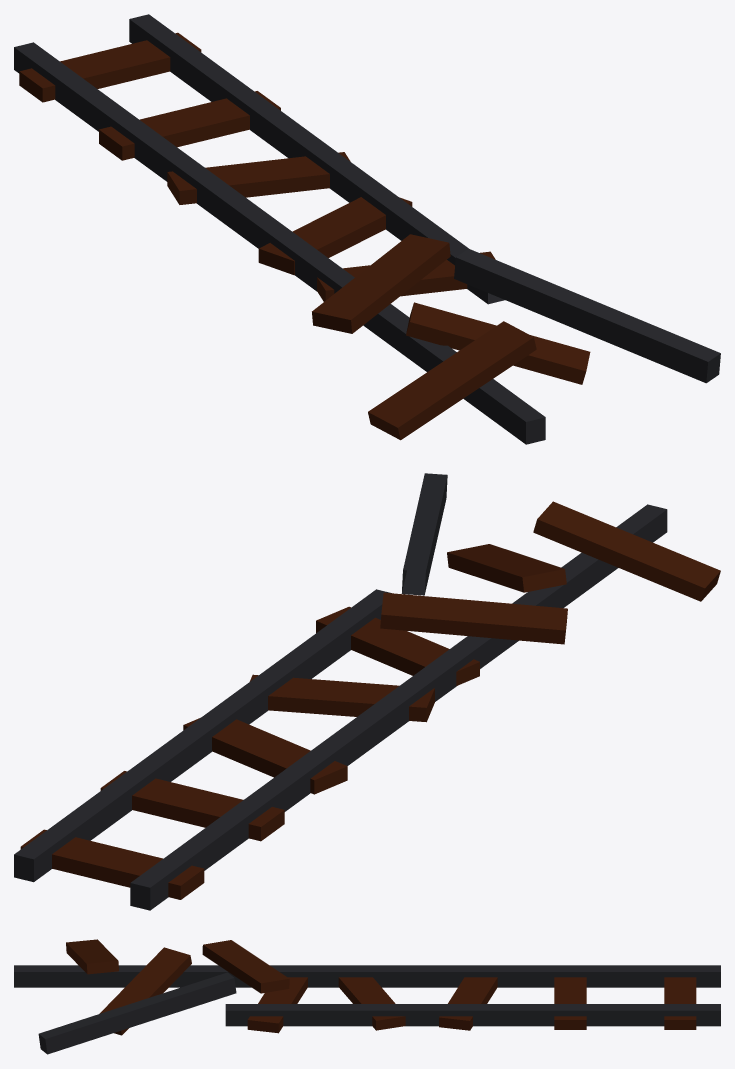
The model's file is Train_tracks_broken.FBX.
The picture shows the model from 3 angles, top to bottom: view 1: azimuth 30°, elevation 25°; view 2: azimuth 150°, elevation 25°; view 3: azimuth 270°, elevation 25°; orthographic projection. The views are drawn at different scales.
Visible parts, largest first — view 1: train_tracks_broken, Box003, Box004, Box005, Box007, Box006, Box010, Box012, Box011, Box009, Box008; view 2: Box003, Box004, train_tracks_broken, Box005, Box007, Box009, Box012, Box011, Box010, Box008, Box006; view 3: Box003, train_tracks_broken, Box004, Box007, Box006, Box009, Box010, Box008, Box011, Box012, Box005.
Part boxes in pixels (x1,y1,x2,y2): train_tracks_broken: [311, 248, 720, 444]; Box003: [129, 14, 504, 304]; Box004: [14, 42, 330, 286]; Box005: [368, 321, 536, 440]; Box007: [312, 234, 450, 333]; Box006: [406, 302, 590, 384]; Box010: [167, 152, 350, 204]; Box012: [19, 32, 201, 102]; Box011: [99, 91, 280, 160]; Box009: [258, 197, 412, 275]; Box008: [317, 251, 495, 301]; Box003: [14, 589, 391, 882]; Box004: [130, 663, 450, 910]; train_tracks_broken: [401, 473, 667, 690]; Box005: [533, 501, 720, 601]; Box007: [380, 592, 567, 644]; Box009: [249, 674, 434, 722]; Box012: [20, 829, 204, 899]; Box011: [100, 771, 284, 841]; Box010: [183, 718, 347, 794]; Box008: [316, 606, 479, 685]; Box006: [447, 544, 566, 592]; Box003: [225, 1004, 720, 1026]; train_tracks_broken: [14, 965, 310, 1054]; Box004: [311, 965, 720, 987]; Box007: [202, 940, 289, 993]; Box006: [99, 947, 191, 1035]; Box009: [338, 977, 405, 1030]; Box010: [439, 977, 497, 1030]; Box008: [247, 977, 307, 1033]; Box011: [554, 977, 586, 1029]; Box012: [664, 977, 696, 1029]; Box005: [66, 939, 118, 974].
Size of the model in its own units: 41.99 by 8.51 by 118.
